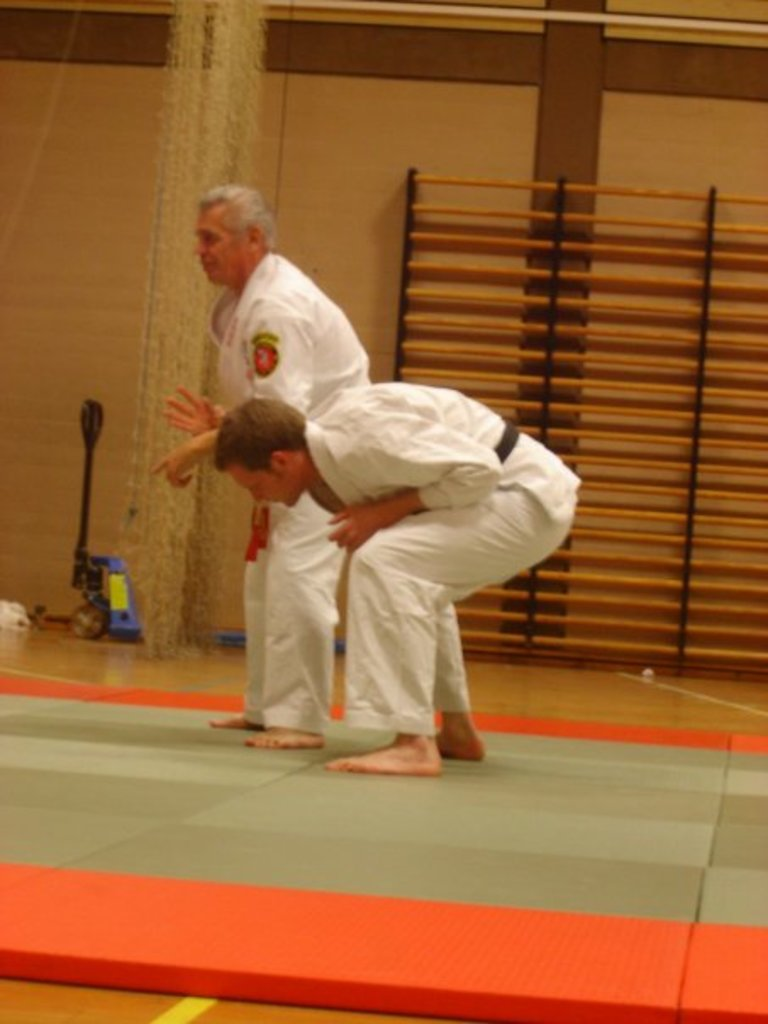face: (193, 201, 239, 283)
